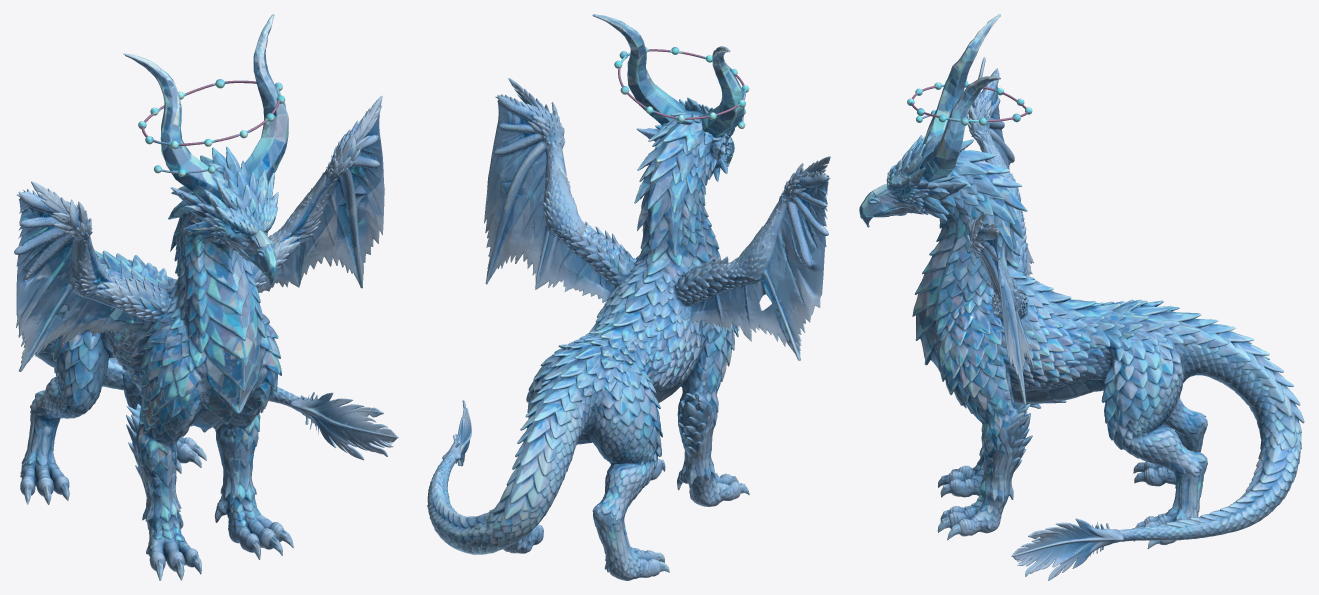
The model's file is navitar-zero.glb.
3 views of the same model, side by side, from view 1: azimuth 30°, elevation 25°; view 2: azimuth 150°, elevation 25°; view 3: azimuth 270°, elevation 25° (orthographic). The views are drawn at different scales.
Parts seen in each view (by area): view 1: tripo_node_c599192a-23cd-4c06-be29-69d256b681ee; view 2: tripo_node_c599192a-23cd-4c06-be29-69d256b681ee; view 3: tripo_node_c599192a-23cd-4c06-be29-69d256b681ee.
Boxes of the visible parts, x1=… form: tripo_node_c599192a-23cd-4c06-be29-69d256b681ee: x1=14, y1=14, x2=398, y2=580; tripo_node_c599192a-23cd-4c06-be29-69d256b681ee: x1=427, y1=14, x2=830, y2=580; tripo_node_c599192a-23cd-4c06-be29-69d256b681ee: x1=859, y1=14, x2=1304, y2=580.
Bounding box in the file's own units: 0.7809 × 0.9804 × 0.846.
Materials: 1 (1 with a texture image).
